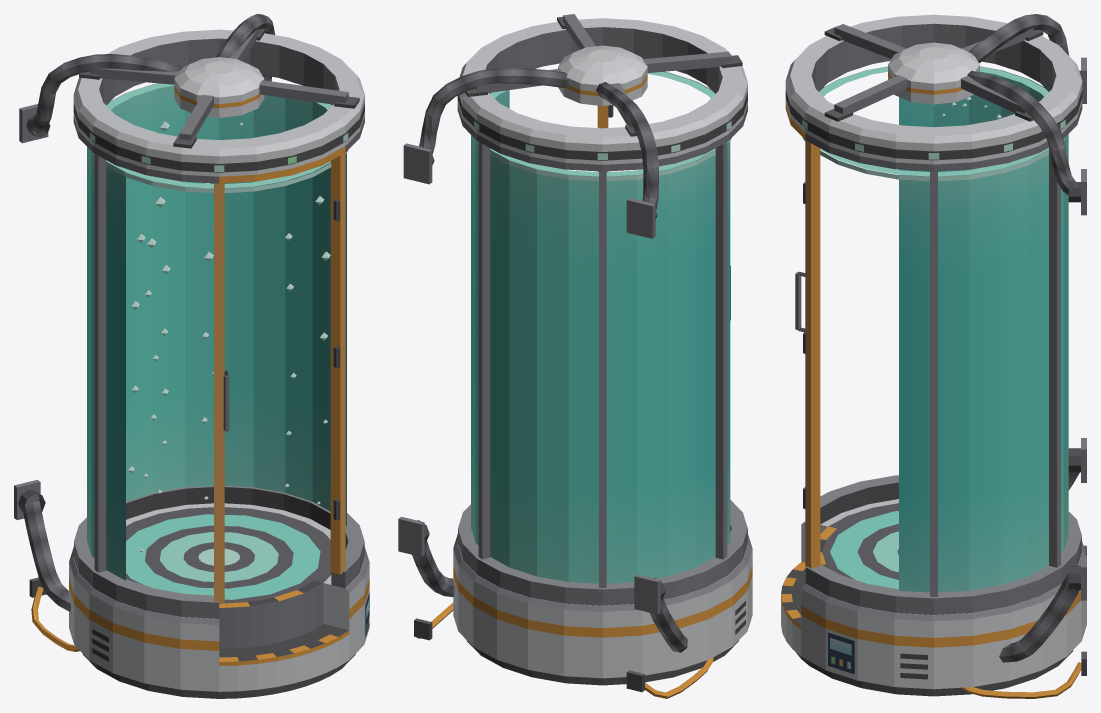
The model's file is pod_a.glb.
3 views of the same model, side by side, from view 1: azimuth 30°, elevation 25°; view 2: azimuth 150°, elevation 25°; view 3: azimuth 270°, elevation 25° (orthographic). The views are drawn at different scales.
Parts seen in each view (by area): view 1: base, fluid_glow; view 2: fluid_glow, base; view 3: base, fluid_glow, lights_glow.
Boxes of the visible parts, x1,y1,x2,y2 form: base: (14,14,369,698); fluid_glow: (87,83,348,599); fluid_glow: (471,71,731,583); base: (398,14,752,698); base: (781,14,1086,698); fluid_glow: (802,66,1068,592); lights_glow: (802,119,1065,669).
Size of the model in its own units: 1 by 2.1 by 1.
